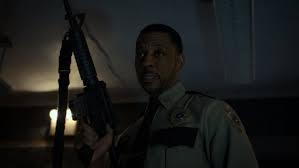rifle: (63, 0, 124, 168)
